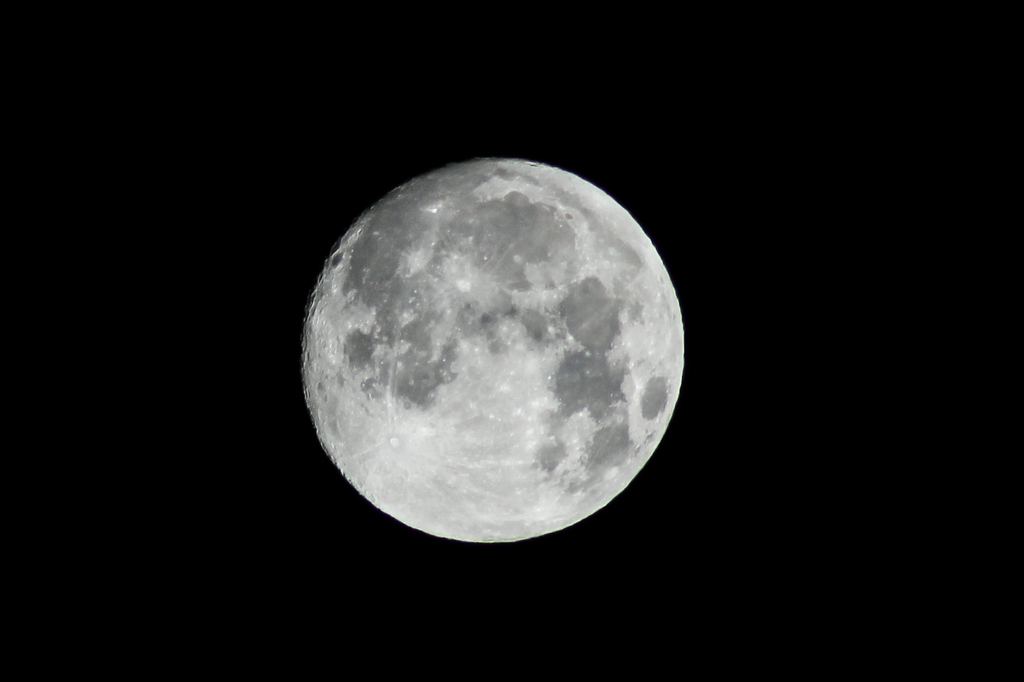crater: (356, 392, 420, 478), (439, 259, 486, 308), (556, 206, 579, 225), (539, 370, 556, 385)
